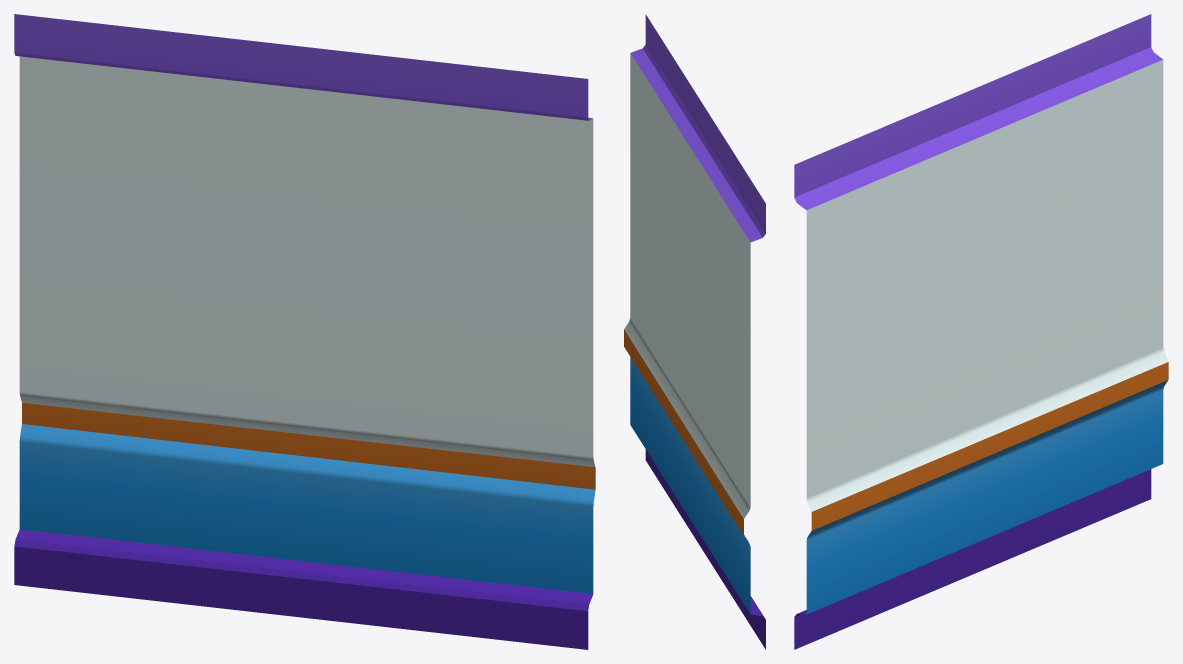
The model's file is SM_Factory_Wall_Diagonal.fbx.
The picture shows the model from 3 angles, left to right: view 1: azimuth 30°, elevation 25°; view 2: azimuth 150°, elevation 25°; view 3: azimuth 270°, elevation 25°; orthographic projection. The views are drawn at different scales.
Visible parts, largest first — view 1: polySurface5; view 2: polySurface5; view 3: polySurface5.
Boxes of the visible parts, box(x1,y1,x2,y2) form: polySurface5: box(14, 14, 595, 649); polySurface5: box(624, 14, 765, 649); polySurface5: box(794, 14, 1168, 649).
Size of the model in its own units: 210 by 210 by 300.
